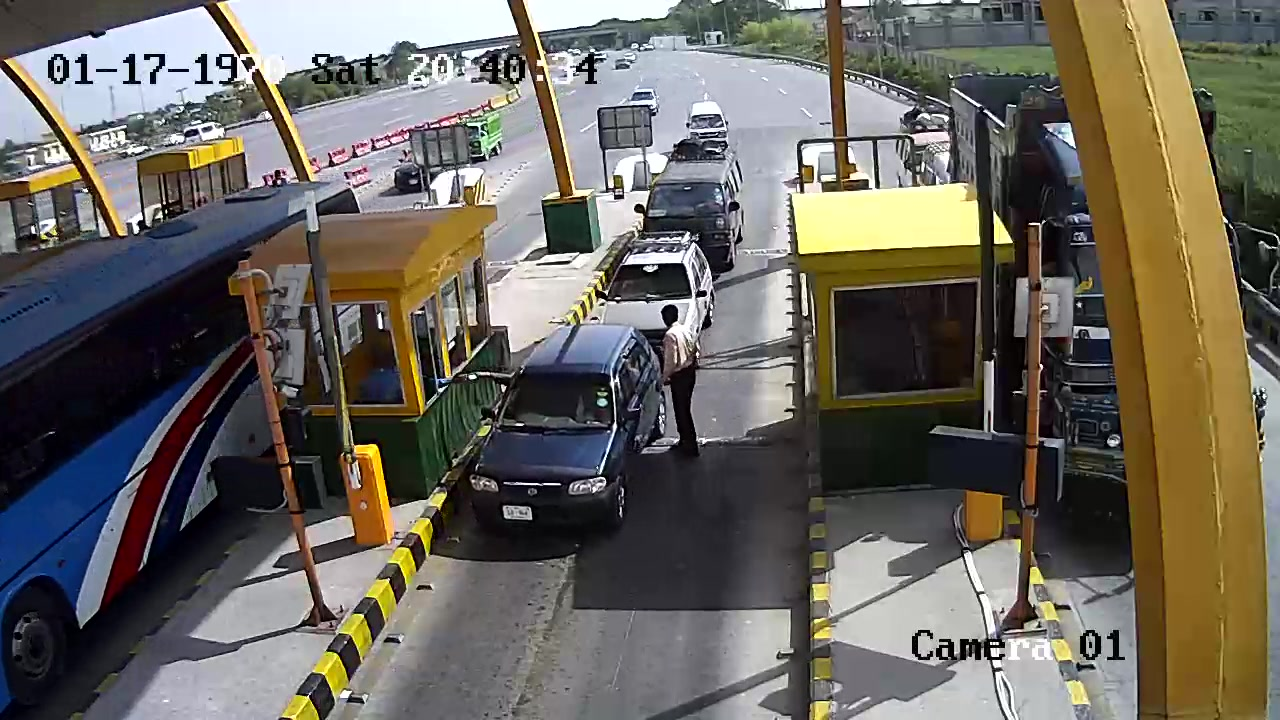F1: (455, 318, 671, 569), (577, 227, 738, 379)
